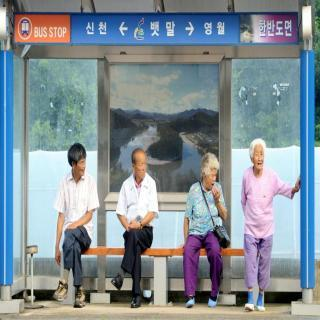person - v3 P: (184, 138, 230, 306), (241, 135, 279, 310), (124, 138, 160, 304), (62, 140, 94, 310)
